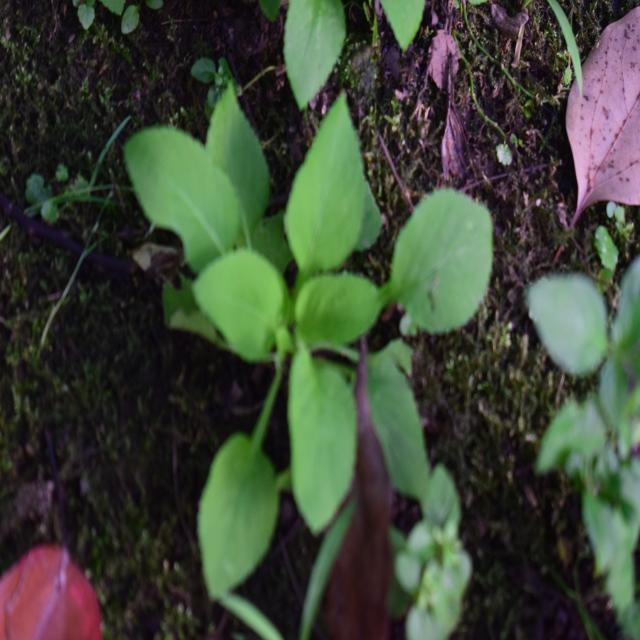Viola: (130, 86, 492, 526)
